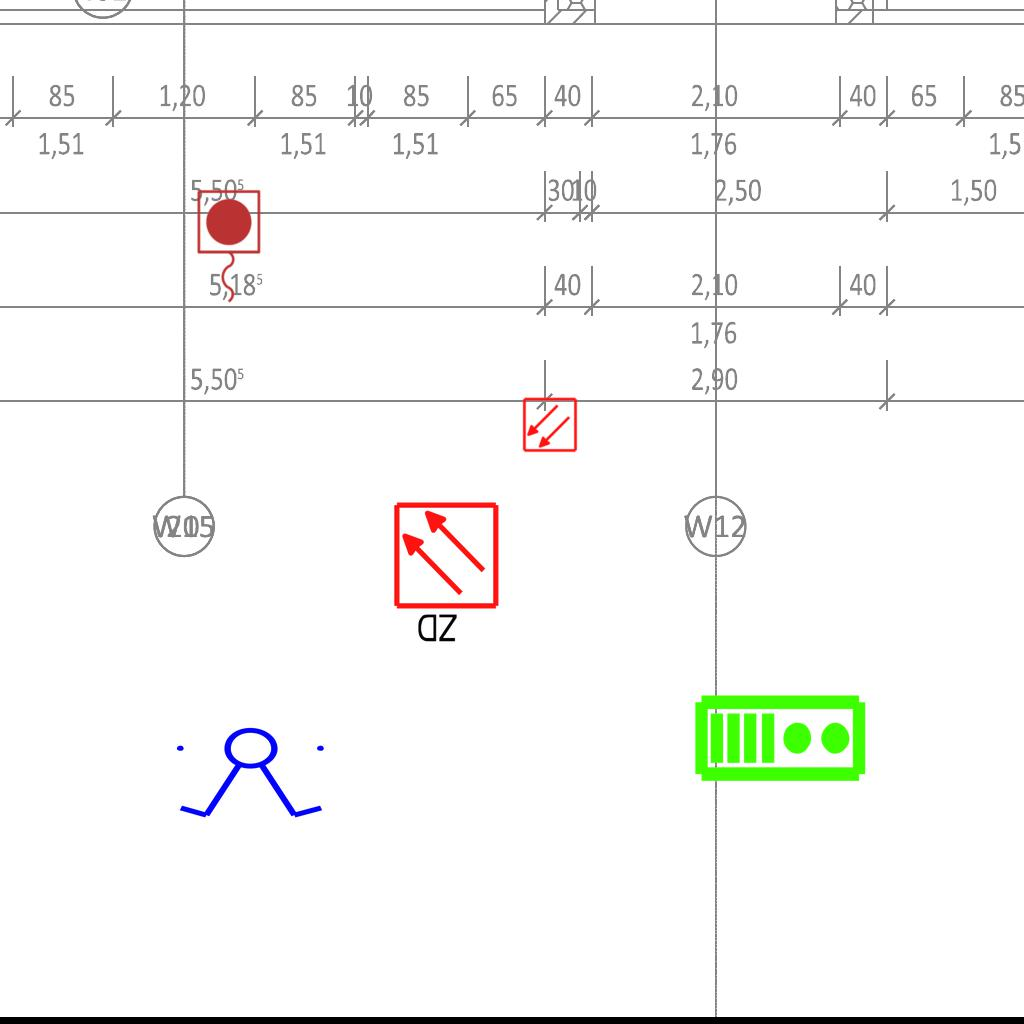Gegensprechanlage_mit_Video: (693, 689, 869, 784)
RMO_Rauchmelder_optischer: (522, 397, 578, 453)
Serienschalter: (168, 726, 336, 822)
ZD_Melder_in_Zwischendecke_mit_Revisionsoeffnung_mind_40_x_40_cm: (391, 500, 505, 649)
Zugtaster: (192, 186, 264, 308)
